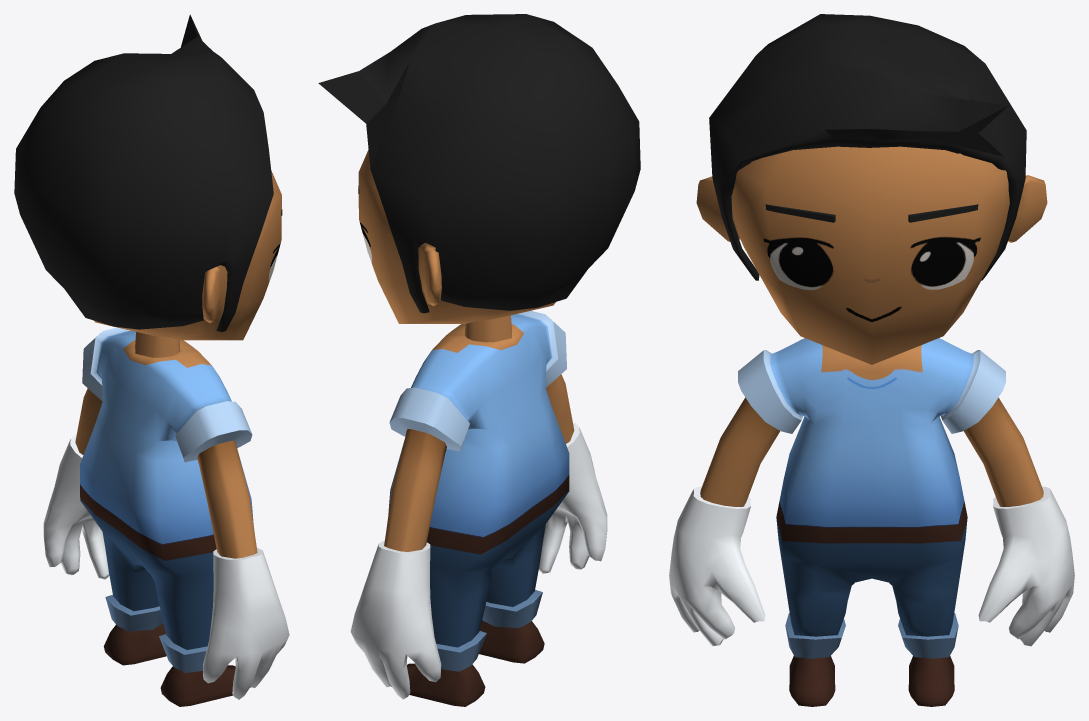
The model's file is Character_2B.fbx.
3 renders of one model, left to right at view 1: azimuth 30°, elevation 25°; view 2: azimuth 150°, elevation 25°; view 3: azimuth 270°, elevation 25°, orthographic. The views are drawn at different scales.
Visible parts, largest first — view 1: Character2B; view 2: Character2B; view 3: Character2B.
Part boxes in pixels (left/top/right/bottom): Character2B: left=14, top=14, right=289, bottom=706; Character2B: left=318, top=14, right=640, bottom=706; Character2B: left=669, top=14, right=1074, bottom=706.
Bounding box in the file's own units: 47.26 × 125 × 70.67.
